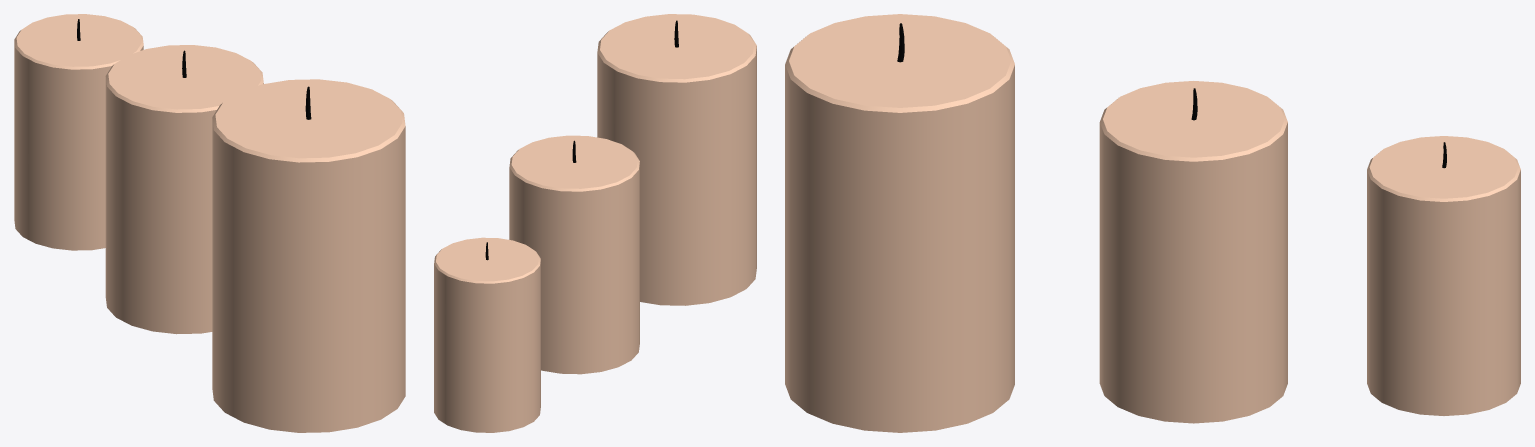
The model's file is SM_Decorative37.FBX.
The picture shows the model from 3 angles, left to right: view 1: azimuth 30°, elevation 25°; view 2: azimuth 150°, elevation 25°; view 3: azimuth 270°, elevation 25°; orthographic projection. The views are drawn at different scales.
Visible parts, largest first — view 1: SM_Decorative37; view 2: SM_Decorative37; view 3: SM_Decorative37.
Part boxes in pixels (x1,y1,x2,y2): SM_Decorative37: [14, 14, 405, 432]; SM_Decorative37: [434, 14, 756, 432]; SM_Decorative37: [785, 14, 1520, 432].
Size of the model in its own units: 6.61 by 21.14 by 11.43.
